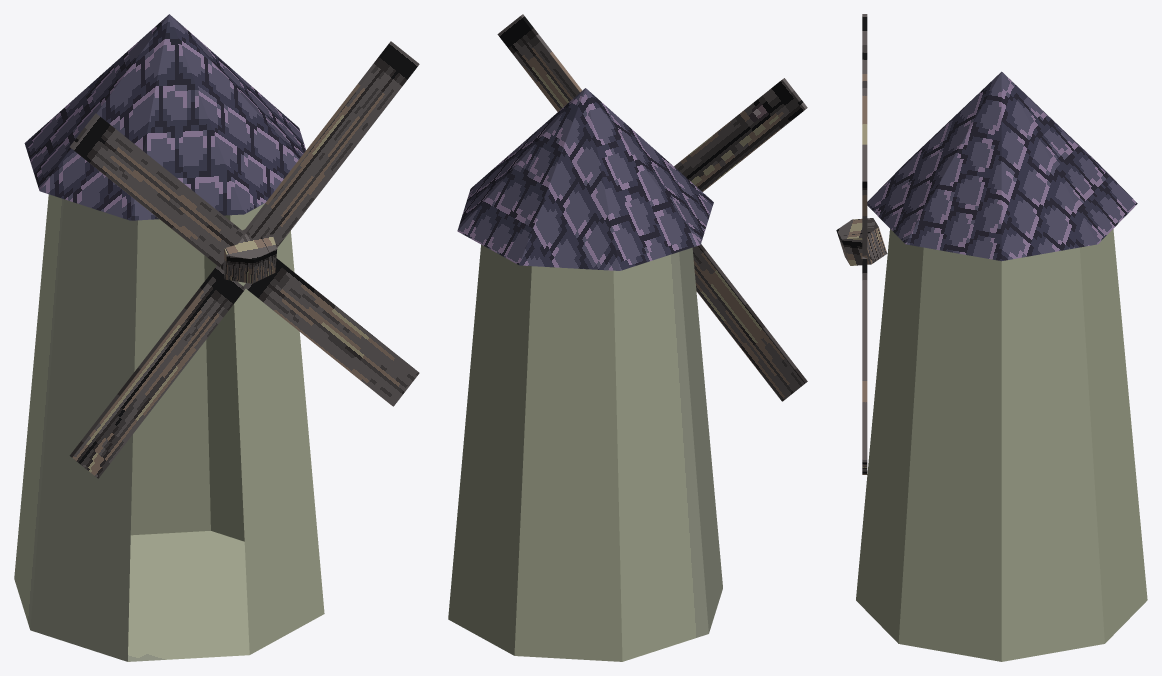
The model's file is windmill.glb.
The picture shows the model from 3 angles, left to right: view 1: azimuth 30°, elevation 25°; view 2: azimuth 150°, elevation 25°; view 3: azimuth 270°, elevation 25°; orthographic projection. The views are drawn at different scales.
Visible parts, largest first — view 1: WM_Tower, WM_Blades, WM_Roof, WM_Hub; view 2: WM_Tower, WM_Roof, WM_Blades; view 3: WM_Tower, WM_Roof, WM_Blades, WM_Hub.
Part boxes in pixels (<box>): WM_Tower: <box>14,194,324,661</box>; WM_Blades: <box>69,41,419,478</box>; WM_Roof: <box>24,14,305,220</box>; WM_Hub: <box>220,229,277,283</box>; WM_Tower: <box>448,244,722,661</box>; WM_Roof: <box>457,88,713,270</box>; WM_Blades: <box>497,14,807,401</box>; WM_Tower: <box>856,229,1147,661</box>; WM_Roof: <box>867,71,1137,261</box>; WM_Blades: <box>862,14,867,474</box>; WM_Hub: <box>836,218,887,265</box>.
Size of the model in its own units: 7.5 by 12 by 6.4.
Materials: 1 (1 with a texture image).
